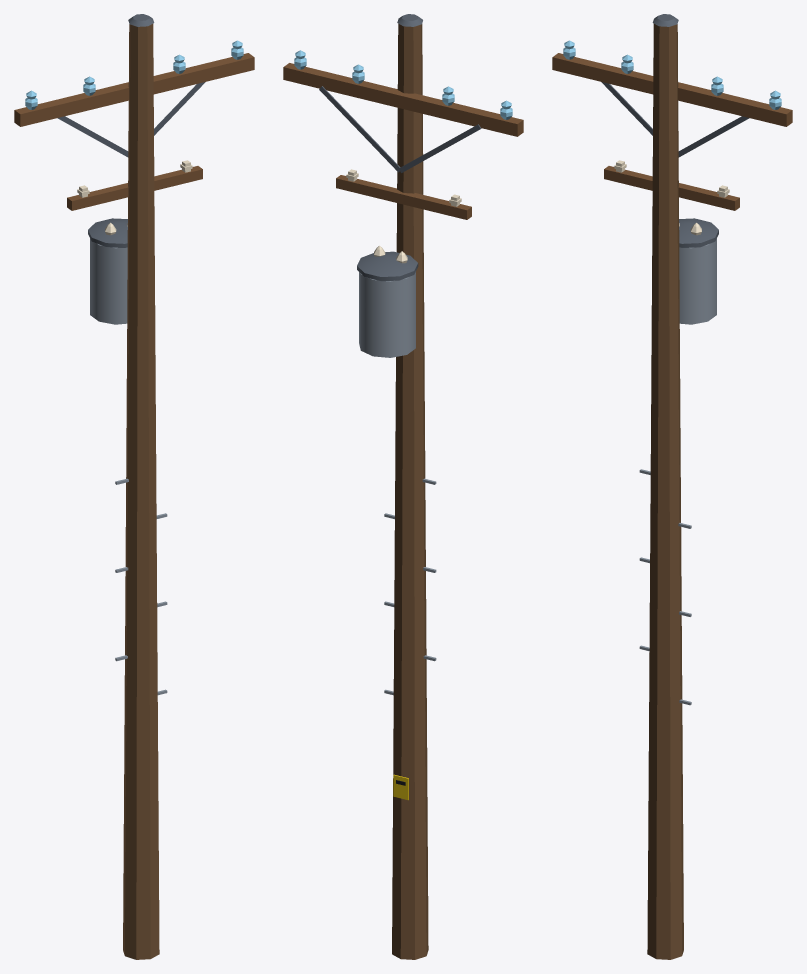
Rendered from power_pole.glb.
3 views of the same model, side by side, from view 1: azimuth 30°, elevation 25°; view 2: azimuth 150°, elevation 25°; view 3: azimuth 330°, elevation 25° (orthographic).
Parts seen in each view (by area): view 1: power_pole; view 2: power_pole; view 3: power_pole.
Part boxes in pixels (x1,y1,x2,y2): power_pole: [14, 14, 254, 959]; power_pole: [283, 14, 523, 959]; power_pole: [552, 14, 792, 959].
Bounding box in the file's own units: 2.5 × 9.54 × 0.8661.
